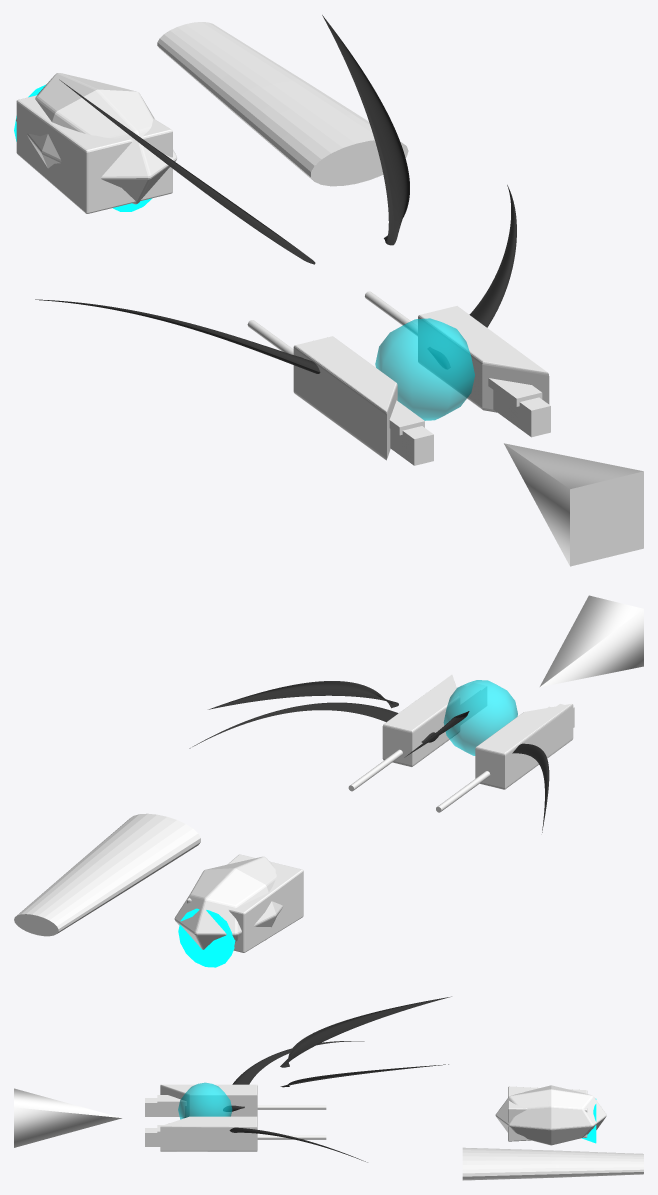
File: fighter_player_260801_961.glb
3 renders of one model, top to bottom at view 1: azimuth 30°, elevation 25°; view 2: azimuth 150°, elevation 25°; view 3: azimuth 270°, elevation 25°, orthographic. The views are drawn at different scales.
Visible parts, largest first — view 1: fuselage_custom_03, part_03_mesh002_1, dummy_nose, Intake_L, Intake_R, dummy_canopy, Tails_00_gltf_export_temp (×2), Weapons_00_gltf_export_temp (×2), wings__00_gltf_export_temp (×2); view 2: fuselage_custom_03, part_03_mesh002_1, dummy_nose, Intake_L, Intake_R, dummy_canopy, wings__00_gltf_export_temp (×2), Tails_00_gltf_export_temp, part_03_mesh002, Weapons_00_gltf_export_temp; view 3: fuselage_custom_03, part_03_mesh002_1, dummy_nose, Intake_R, Intake_L, Tails_00_gltf_export_temp (×2), Weapons_00_gltf_export_temp (×2), dummy_canopy, wings__00_gltf_export_temp (×2).
Boxes of the visible parts, box(x1,y1,x2,y2) form: fuselage_custom_03: box(157, 22, 408, 186); part_03_mesh002_1: box(16, 73, 177, 213); dummy_nose: box(504, 443, 643, 566); Intake_L: box(293, 336, 397, 460); Intake_R: box(418, 306, 549, 412); dummy_canopy: box(375, 318, 474, 420); Tails_00_gltf_export_temp (×2): box(59, 15, 409, 264); Weapons_00_gltf_export_temp (×2): box(247, 291, 550, 465); wings__00_gltf_export_temp (×2): box(35, 185, 516, 373); fuselage_custom_03: box(14, 813, 200, 936); part_03_mesh002_1: box(174, 854, 303, 952); dummy_nose: box(539, 595, 643, 687); Intake_L: box(475, 703, 573, 789); Intake_R: box(382, 674, 459, 766); dummy_canopy: box(443, 680, 517, 755); wings__00_gltf_export_temp (×2): box(189, 702, 549, 832); Tails_00_gltf_export_temp: box(208, 681, 398, 709); part_03_mesh002: box(178, 908, 235, 967); Weapons_00_gltf_export_temp: box(348, 683, 486, 791); fuselage_custom_03: box(462, 1147, 643, 1180); part_03_mesh002_1: box(495, 1085, 606, 1145); dummy_nose: box(14, 1088, 122, 1147); Intake_R: box(160, 1116, 257, 1151); Intake_L: box(160, 1084, 257, 1117); Tails_00_gltf_export_temp (×2): box(280, 996, 451, 1087); Weapons_00_gltf_export_temp (×2): box(145, 1095, 326, 1146); dummy_canopy: box(178, 1082, 232, 1119); wings__00_gltf_export_temp (×2): box(223, 1041, 367, 1162).
Bounding box in the file's own units: 3.17 × 1.36 × 6.95.
